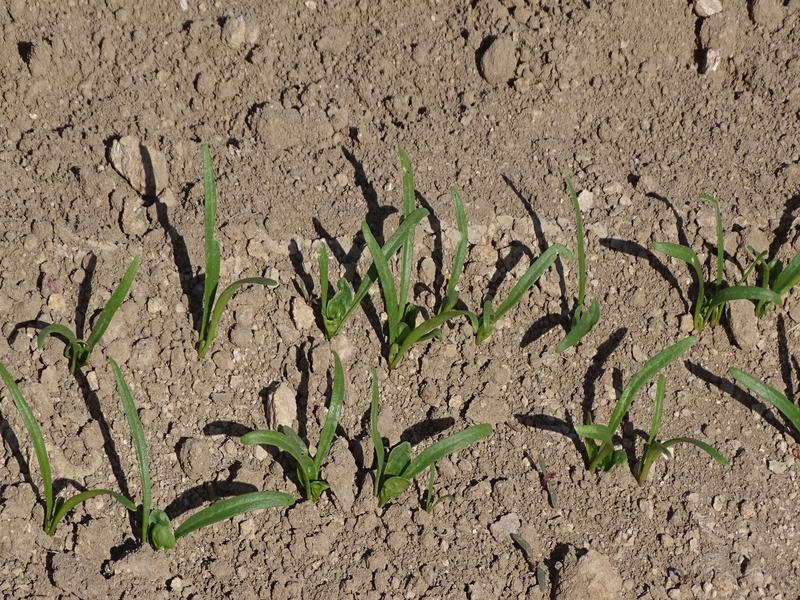Espinaca: (319, 160, 604, 349), (123, 356, 348, 550), (367, 365, 502, 504), (192, 141, 278, 356), (2, 368, 113, 534), (573, 337, 697, 470), (655, 201, 793, 317), (39, 256, 142, 364)
